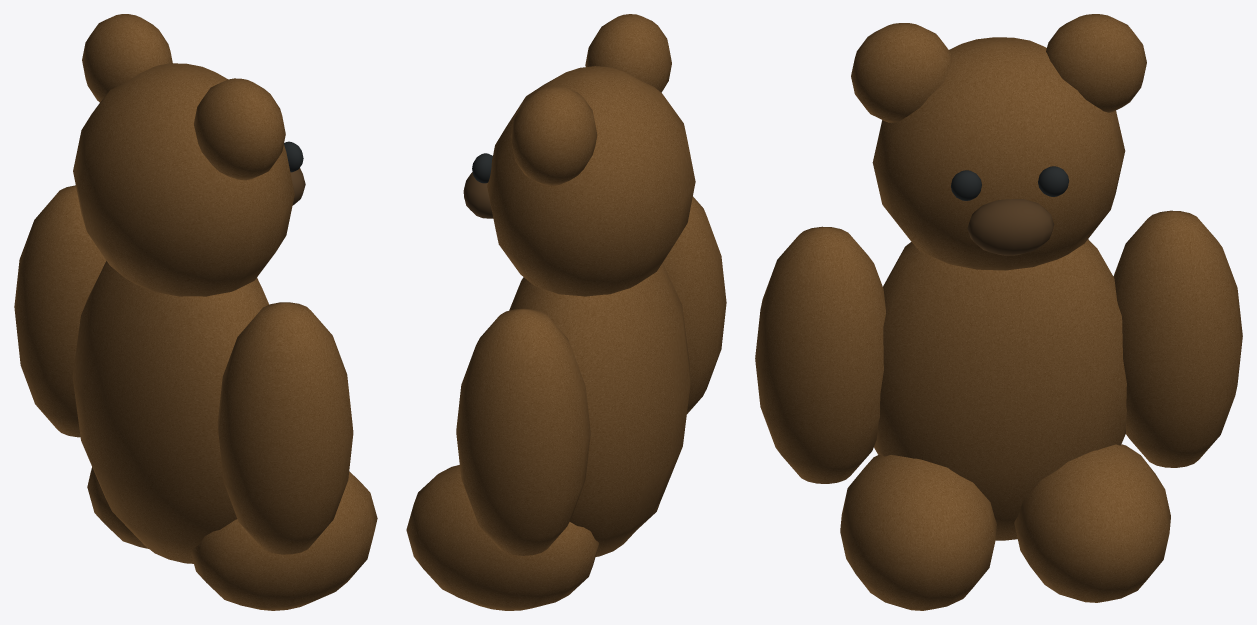
File: SM_TeddyPrize_30b9cd0f30.fbx
3 views of the same model, side by side, from view 1: azimuth 30°, elevation 25°; view 2: azimuth 150°, elevation 25°; view 3: azimuth 270°, elevation 25° (orthographic). The views are drawn at different scales.
Visible parts, largest first — view 1: SM_TeddyPrize_30b9cd0f30; view 2: SM_TeddyPrize_30b9cd0f30; view 3: SM_TeddyPrize_30b9cd0f30.
Boxes of the visible parts, x1,y1,x2,y2 form: SM_TeddyPrize_30b9cd0f30: [14, 14, 377, 610]; SM_TeddyPrize_30b9cd0f30: [406, 14, 726, 610]; SM_TeddyPrize_30b9cd0f30: [755, 14, 1242, 610].
Size of what is drawn, in the model's own units: 30.84 by 53.82 by 66.7.
Materials: 3 (1 with a texture image).
